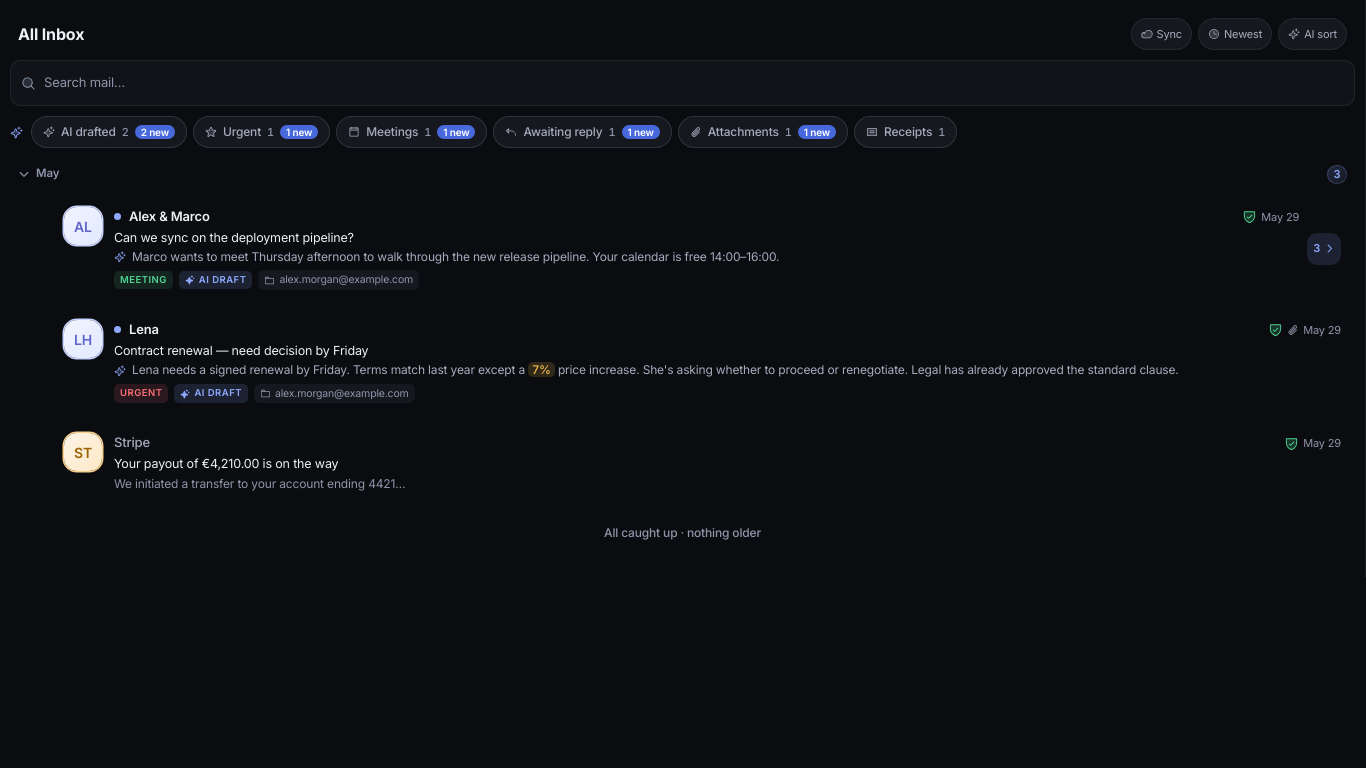
Test: Stream conversation selection › toggles non-contiguous conversations with the platform modifier
Step 1. Click the button with class "mail-open" that starts with "Alex & Marco" → (682, 249), box [64,207,1299,290]
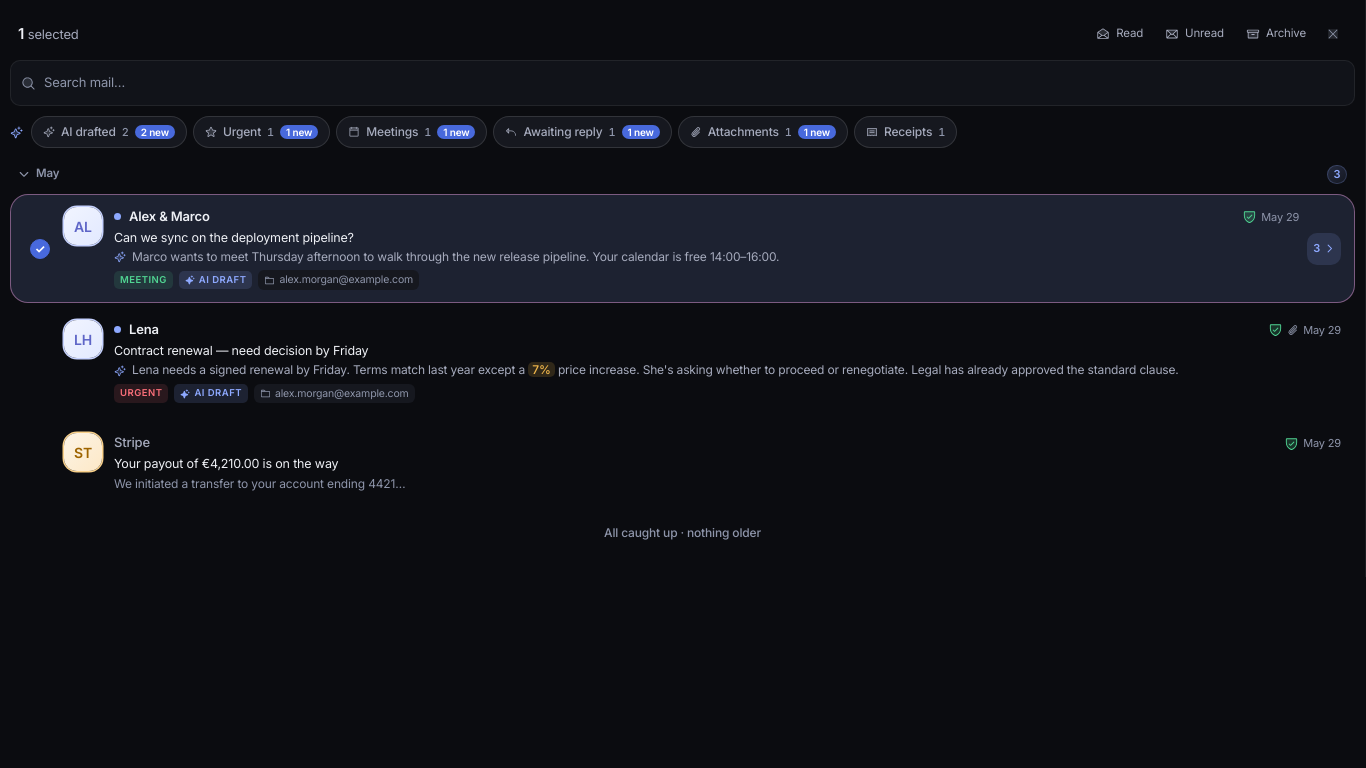
Step 2. Click the button with class "mail-open" that starts with "Stripe" → (83, 452), box [64,433,1341,492]
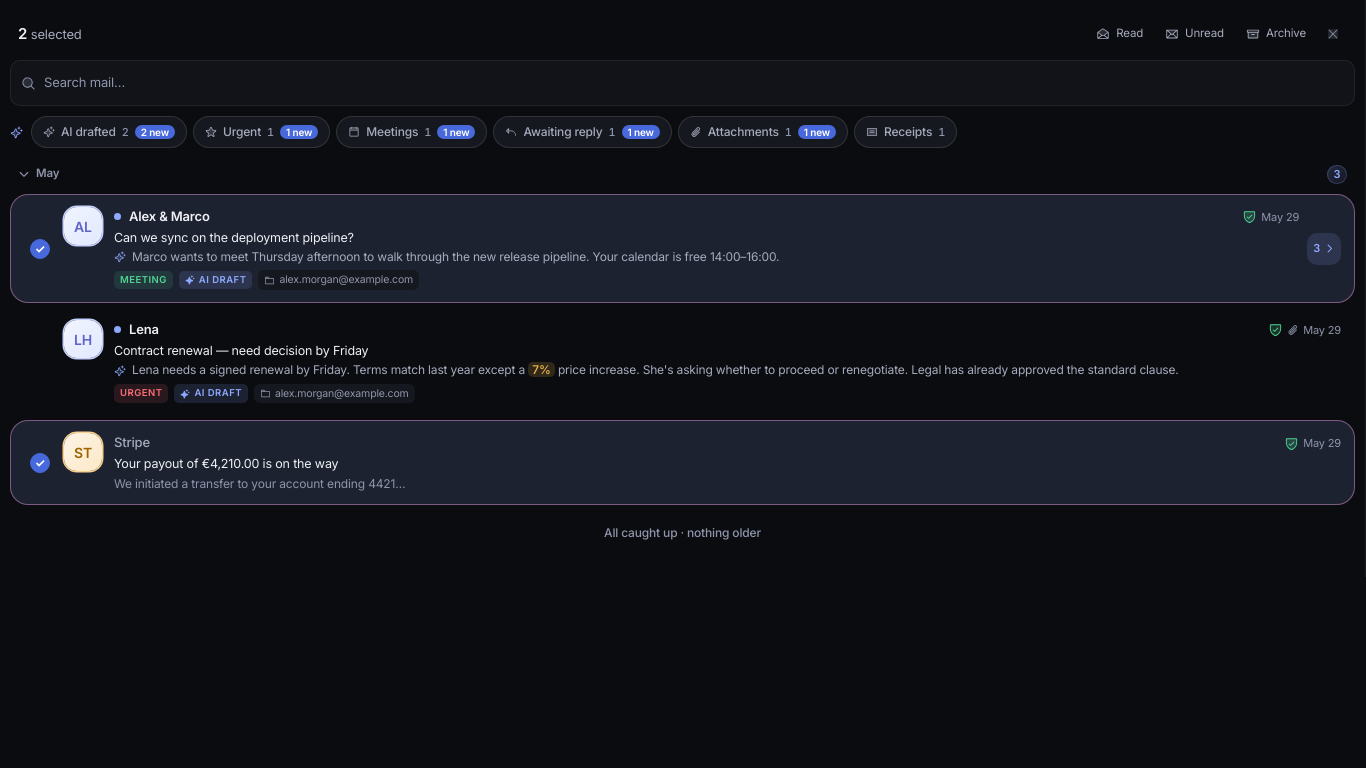
Expected: the number of elements with class "multi-sel" is 2, [10,194,1355,303]; [10,420,1355,505]
Expected: the element with class "selection-bar" shows "2 selected", [18,18,1347,50]
